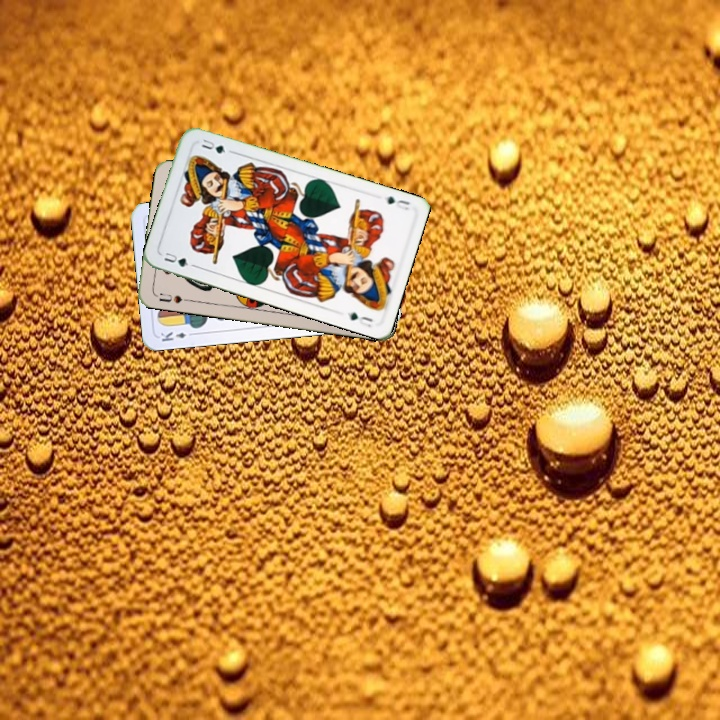EK: (156, 328, 197, 344)
GU: (160, 248, 191, 270), (380, 192, 412, 213)
SU: (155, 289, 192, 306)
